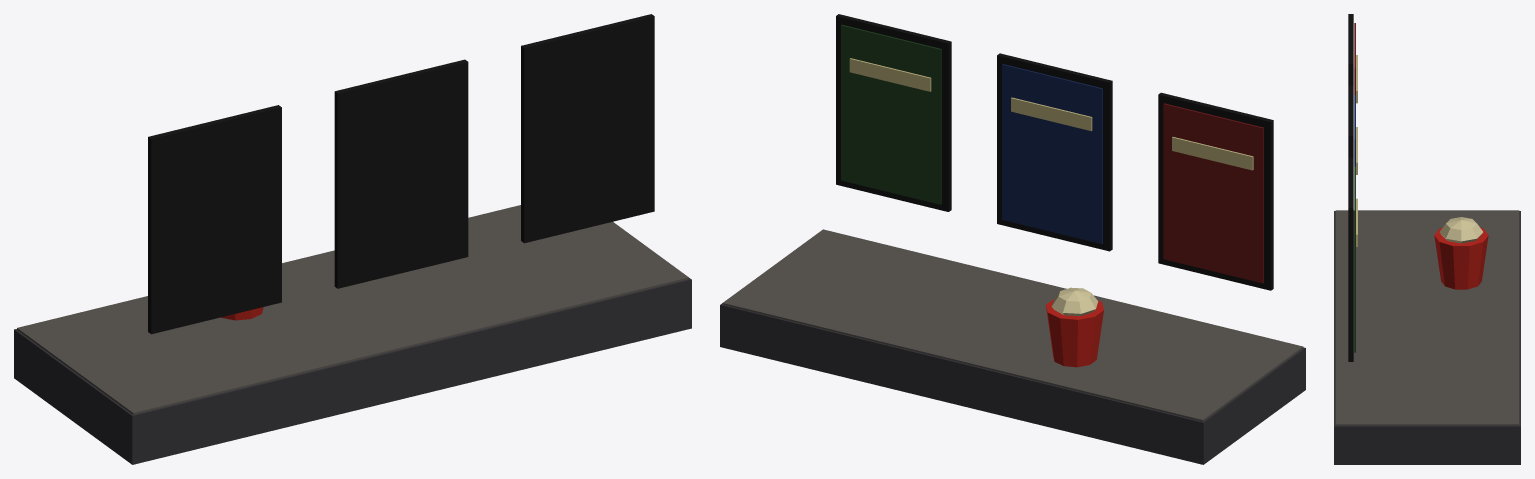
Rendered from display_cinema.glb.
3 views of the same model, side by side, from view 1: azimuth 30°, elevation 25°; view 2: azimuth 150°, elevation 25°; view 3: azimuth 270°, elevation 25° (orthographic). The views are drawn at different scales.
Parts seen in each view (by area): view 1: display_cinema; view 2: display_cinema; view 3: display_cinema.
Part boxes in pixels (x1,y1,x2,y2): display_cinema: (14,14,691,464); display_cinema: (720,14,1305,464); display_cinema: (1334,14,1520,464).
Size of the model in its own units: 3 by 1.6 by 1.1.
